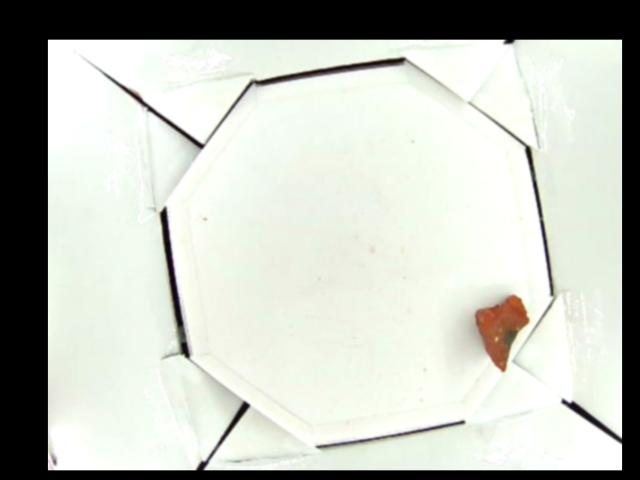Brisk: (471, 294, 530, 372)
